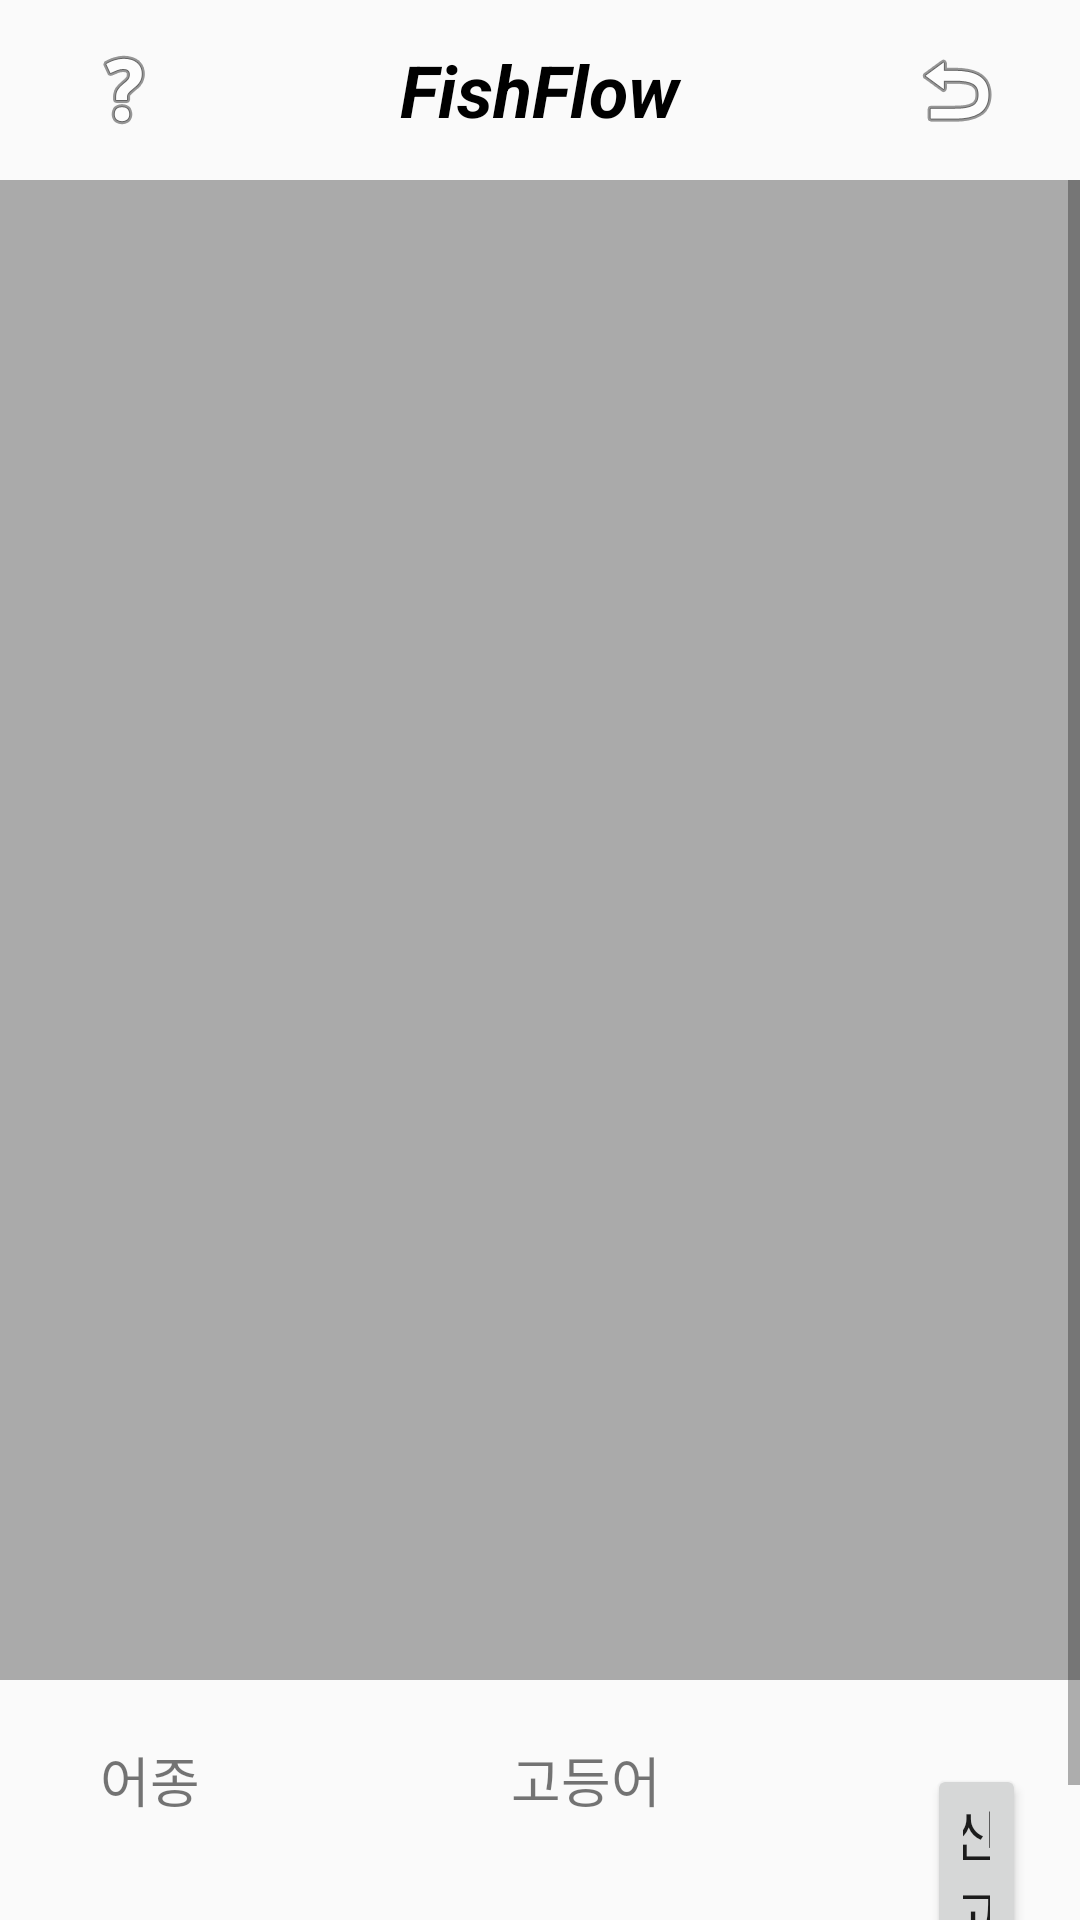

Icon bounding boxes for this 1080*1920 phone screenshot, format bbox(x1, y1, x2, y2):
help: bbox(103, 56, 145, 124)
revert: bbox(923, 59, 992, 122)
